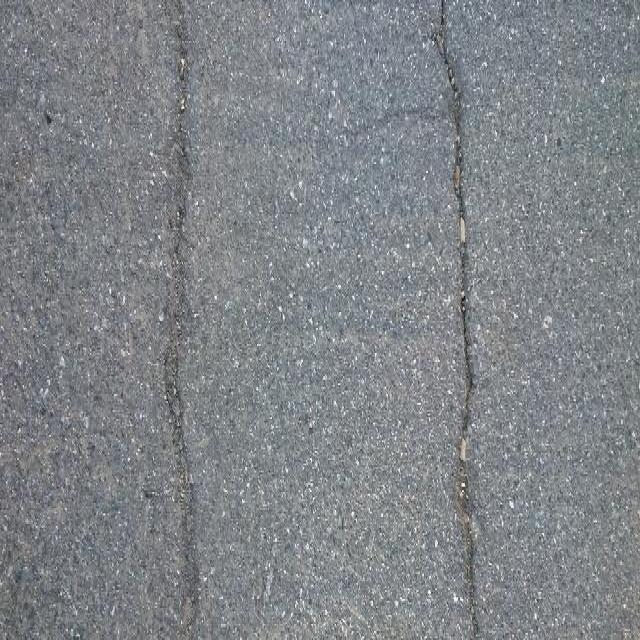Crack: (430, 0, 490, 640), (157, 0, 208, 640)
